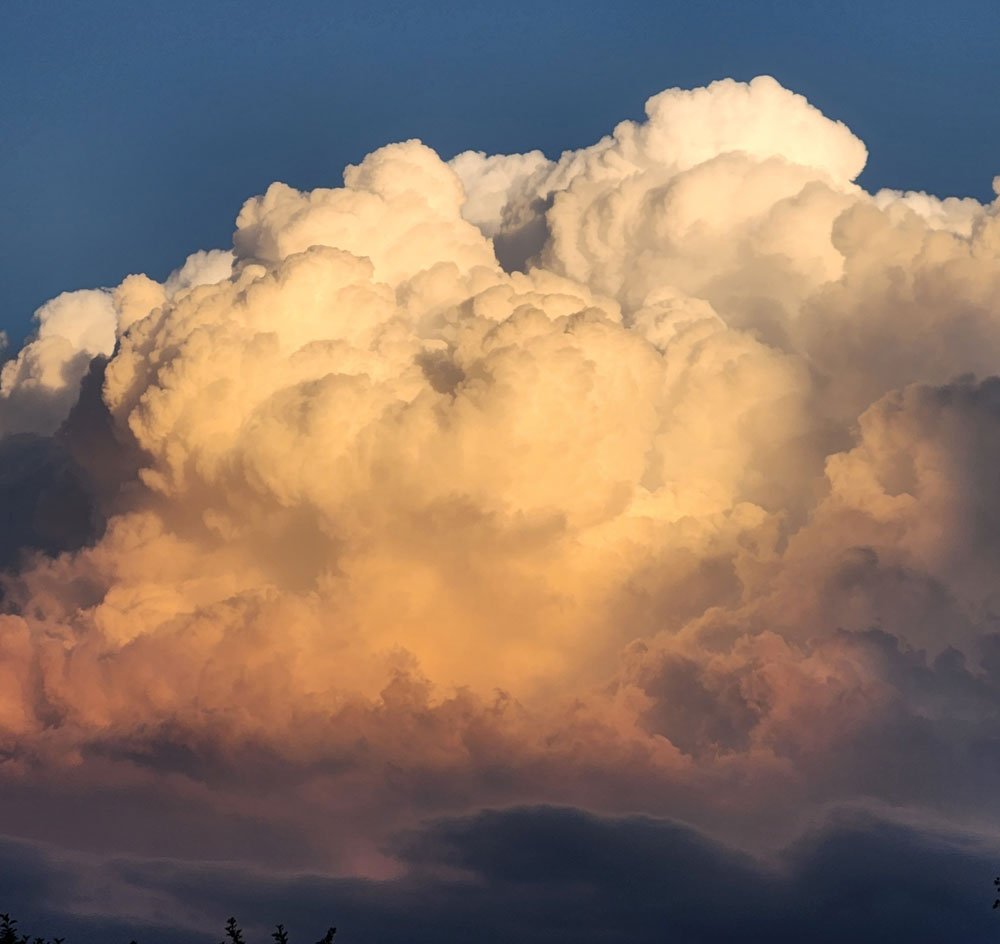Cumulus: (17, 38, 1000, 808)
